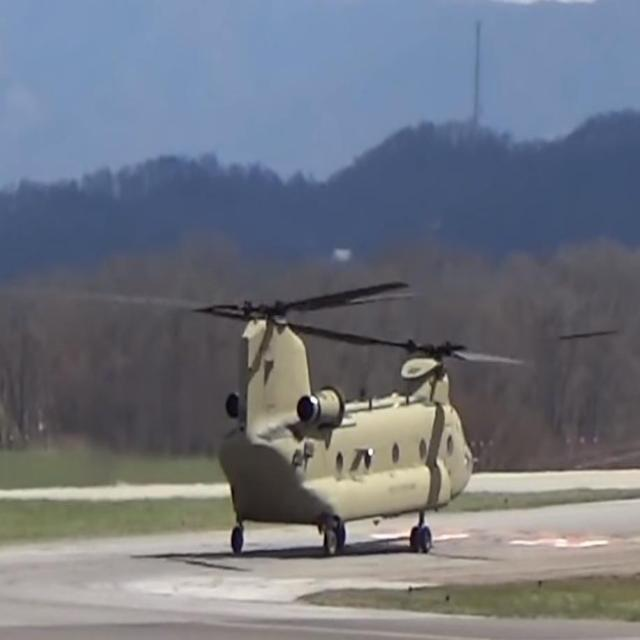Helicopter: (194, 283, 481, 543)
